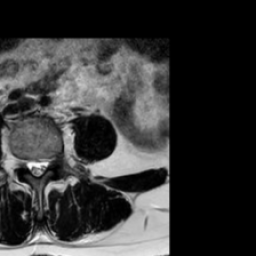CCS_stenosis: (33, 147, 41, 184)
LFS_normal: (49, 147, 57, 171)
LLS_normal: (41, 149, 49, 177)
RFS_normal: (16, 147, 25, 174)
RLS_normal: (25, 151, 33, 177)
